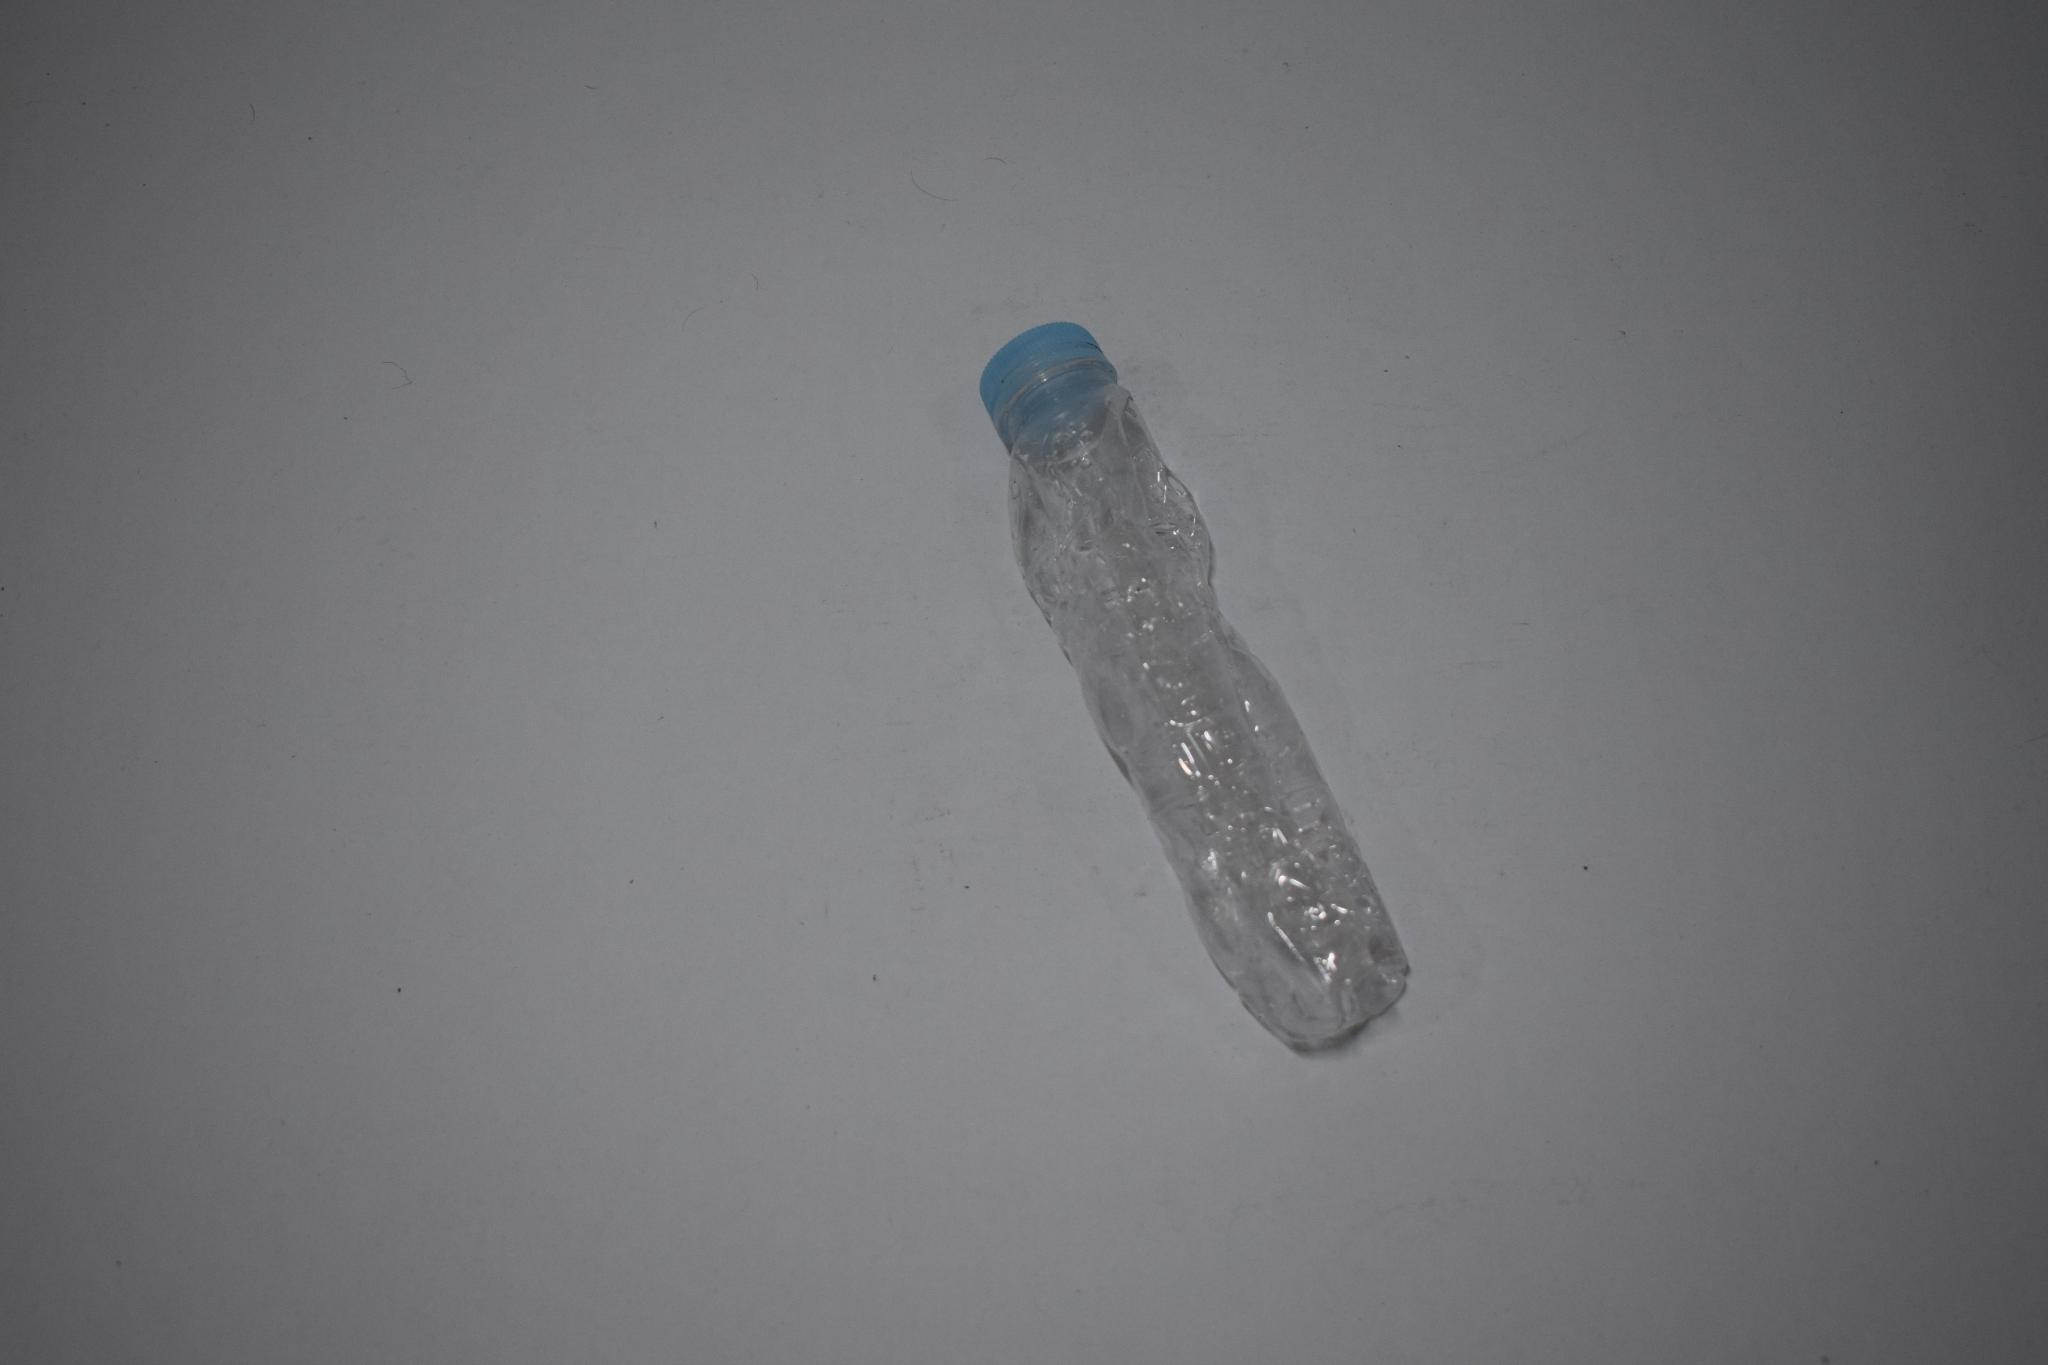bottle: (973, 318, 1427, 1079)
